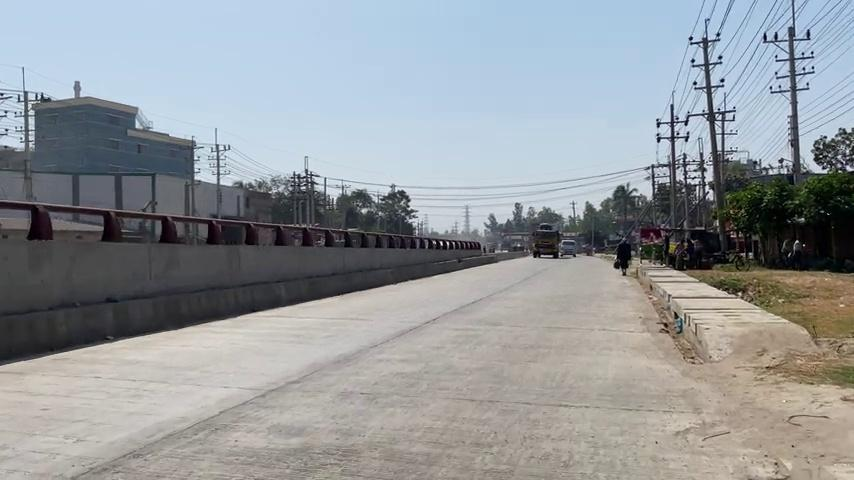Car: (669, 294, 807, 366)
Fallen-tree: (0, 198, 498, 362)
Fence: (615, 237, 631, 275)
Garbage: (689, 18, 731, 254)
Rickshaw: (531, 222, 560, 258)
